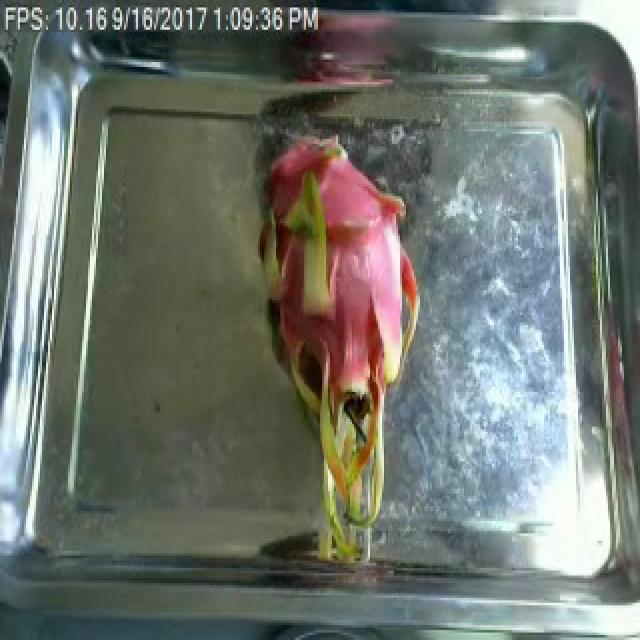fruit: (230, 134, 442, 570)
